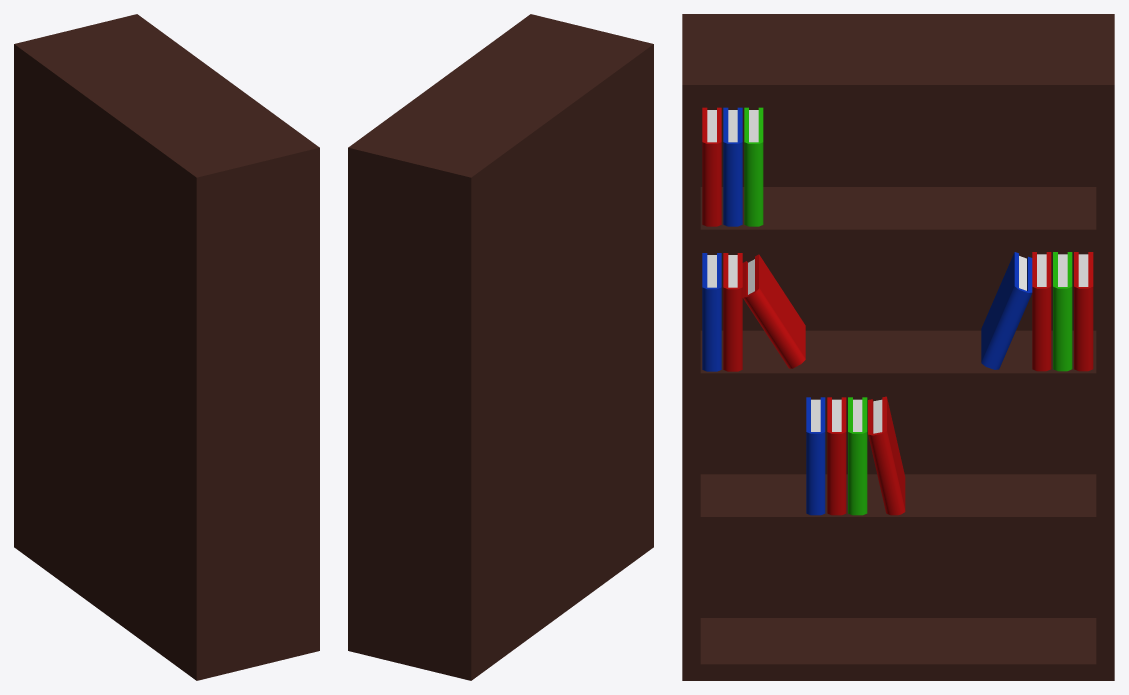
File: Shelf.fbx
3 renders of one model, left to right at view 1: azimuth 30°, elevation 25°; view 2: azimuth 150°, elevation 25°; view 3: azimuth 270°, elevation 25°, orthographic. The views are drawn at different scales.
Parts seen in each view (by area): view 1: Shelf; view 2: Shelf; view 3: Shelf.
Boxes of the visible parts, box(x1,y1,x2,y2) form: Shelf: box(14, 14, 319, 680); Shelf: box(348, 14, 653, 680); Shelf: box(682, 14, 1114, 680).
Bounding box in the file's own units: 21.23 × 82.93 × 54.54.
